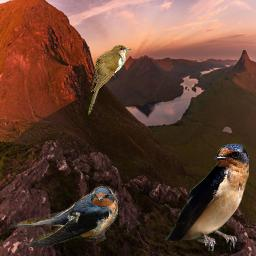Cuckoo: (88, 44, 131, 116)
Swallow: (165, 143, 249, 251), (9, 186, 118, 247)
